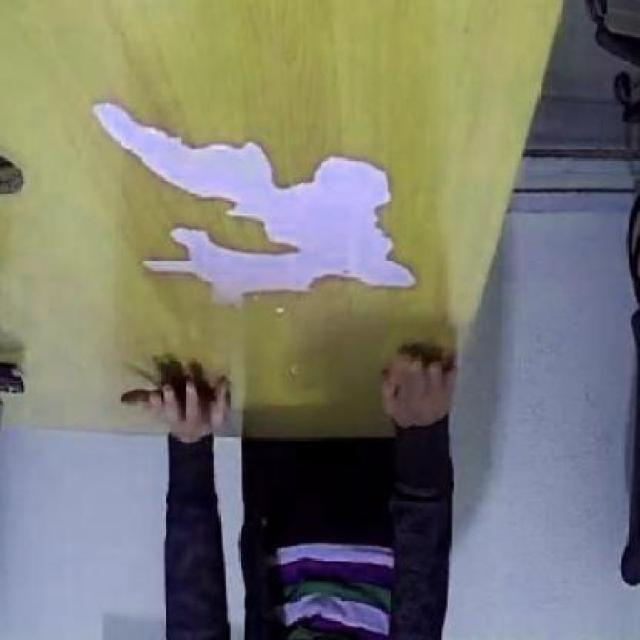spillage: (92, 102, 417, 304)
